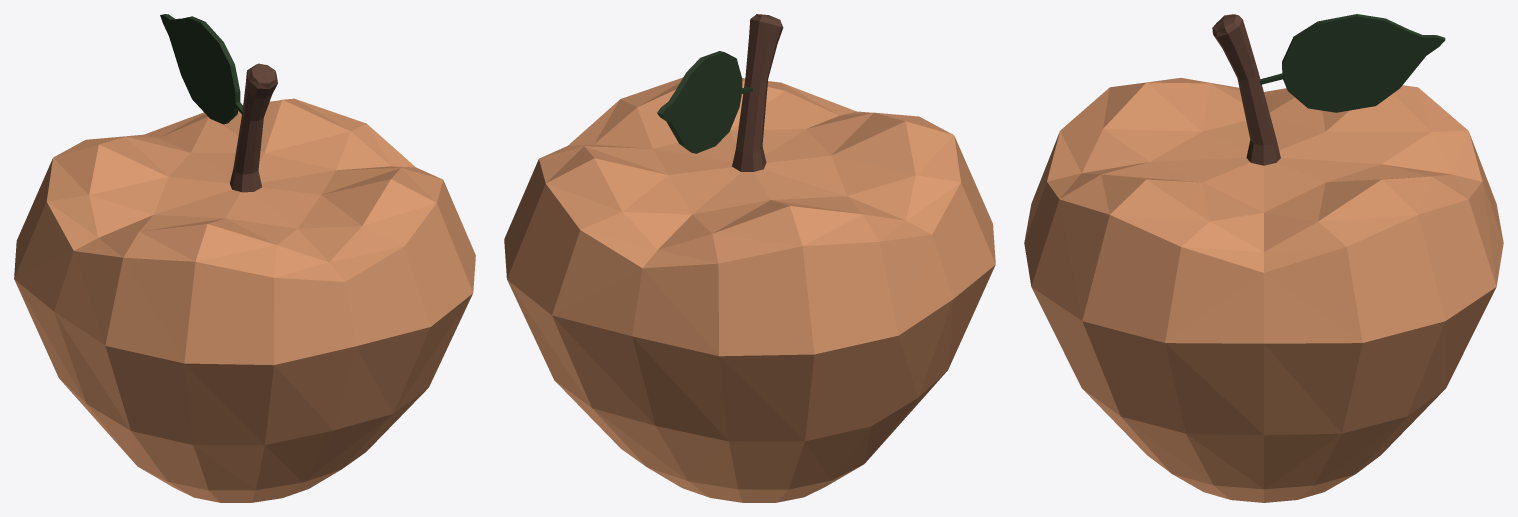
Rendered from produce_peach.glb.
3 renders of one model, left to right at view 1: azimuth 30°, elevation 25°; view 2: azimuth 150°, elevation 25°; view 3: azimuth 270°, elevation 25°, orthographic. The views are drawn at different scales.
Bounding box in the file's own units: 0.9377 × 1 × 0.9421.
